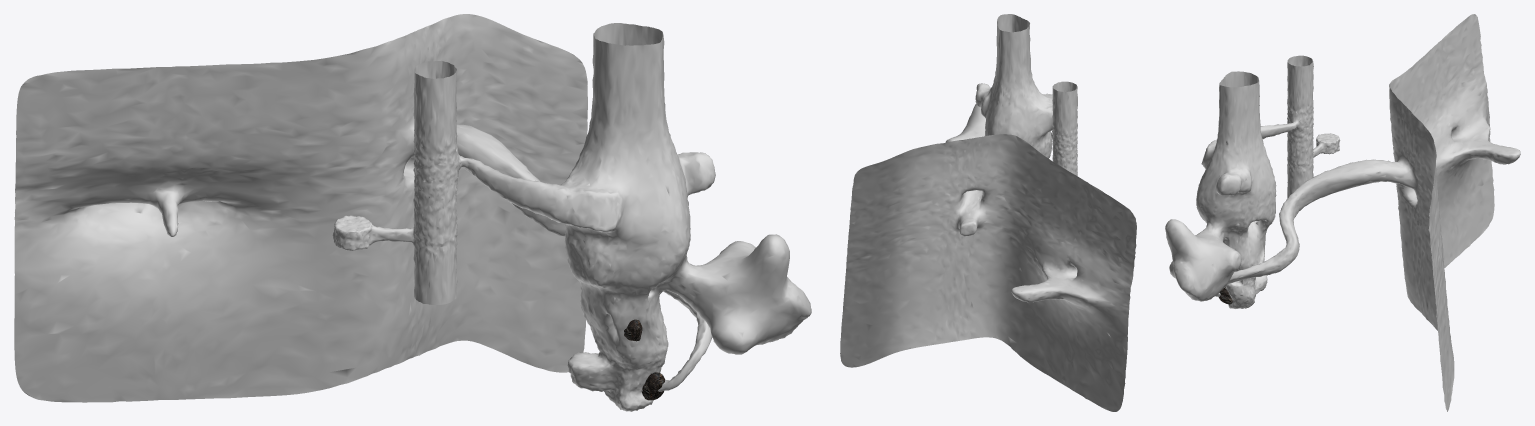
File: CaveTest_11_26 1.fbx
The picture shows the model from 3 angles, left to right: view 1: azimuth 30°, elevation 25°; view 2: azimuth 150°, elevation 25°; view 3: azimuth 270°, elevation 25°; orthographic projection. The views are drawn at different scales.
Visible parts, largest first — view 1: CaveBase; view 2: CaveBase; view 3: CaveBase.
Boxes of the visible parts, x1,y1,x2,y2 form: CaveBase: (14, 14, 811, 411); CaveBase: (840, 14, 1136, 411); CaveBase: (1165, 14, 1520, 411).
Size of the model in its own units: 67737 by 57782 by 62321.
